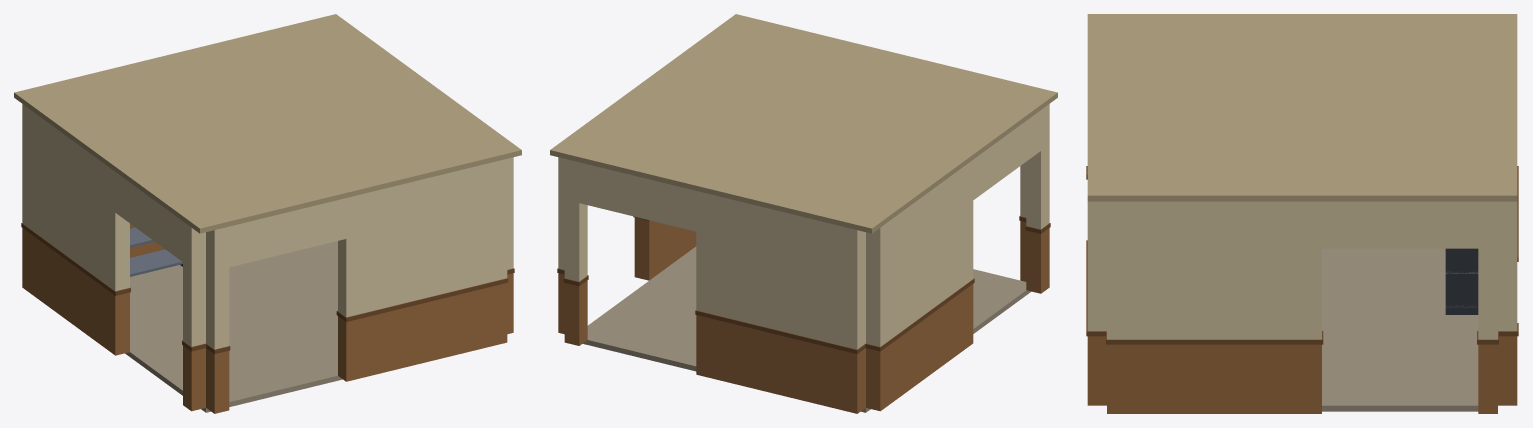
The model's file is room_shared_janitor_closet.glb.
The picture shows the model from 3 angles, left to right: view 1: azimuth 30°, elevation 25°; view 2: azimuth 150°, elevation 25°; view 3: azimuth 270°, elevation 25°; orthographic projection. The views are drawn at different scales.
Visible parts, largest first — view 1: room_shared_janitor_closet; view 2: room_shared_janitor_closet; view 3: room_shared_janitor_closet.
Part boxes in pixels (box(x1,y1,x2,y2)): room_shared_janitor_closet: box(14, 14, 521, 413); room_shared_janitor_closet: box(550, 14, 1057, 413); room_shared_janitor_closet: box(1086, 14, 1518, 413).
Size of the model in its own units: 6.62 by 3.8 by 6.64.
1 material, 1 textured.
